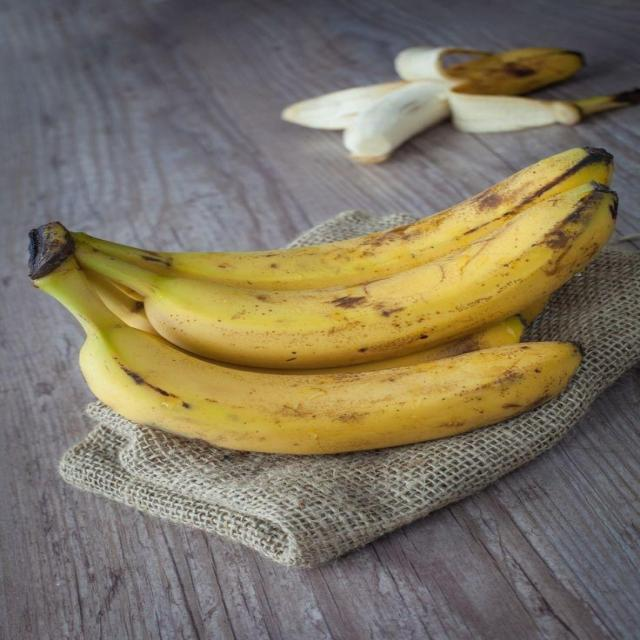banana: (31, 145, 616, 454)
